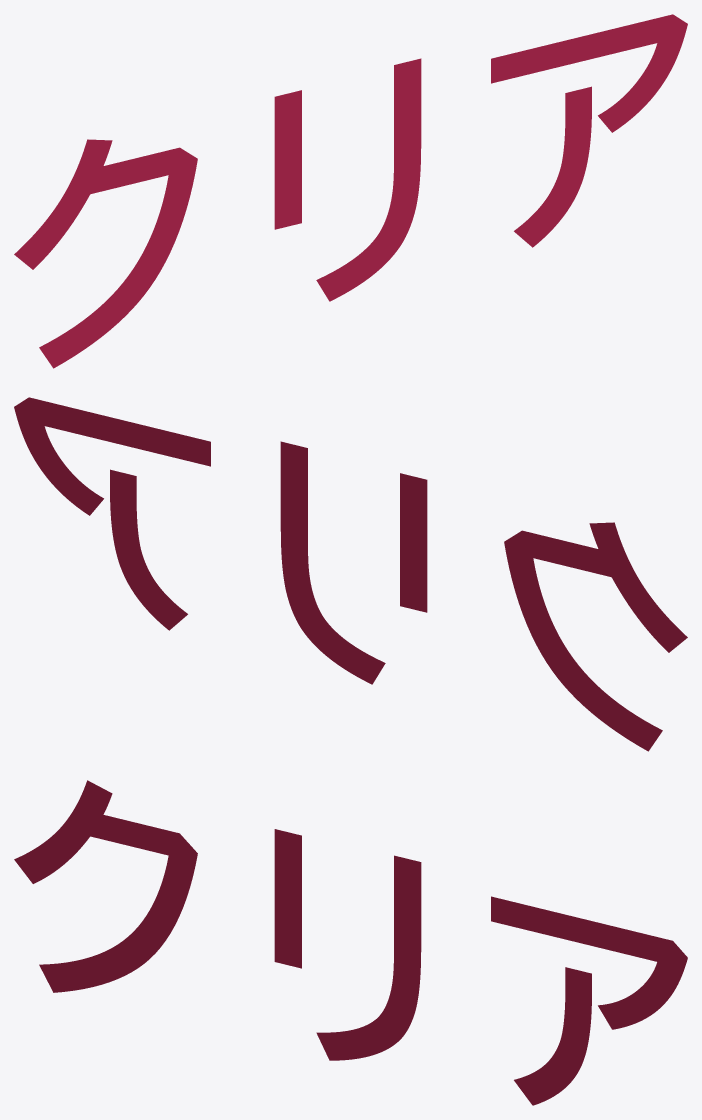
Rendered from goalText.obj.
The picture shows the model from 3 angles, top to bottom: view 1: azimuth 30°, elevation 25°; view 2: azimuth 150°, elevation 25°; view 3: azimuth 330°, elevation 25°; orthographic projection.
Parts seen in each view (by area): view 1: テキスト; view 2: テキスト; view 3: テキスト.
Boxes of the visible parts, x1,y1,x2,y2 form: テキスト: [14, 14, 687, 368]; テキスト: [14, 397, 687, 751]; テキスト: [14, 780, 687, 1105].
Bounding box in the file's own units: 2.83 × 0.8892 × 0.
